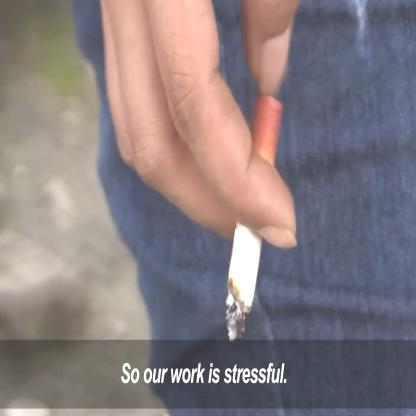cigarette: (224, 92, 286, 343)
